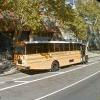Bus: (12, 36, 87, 74)
